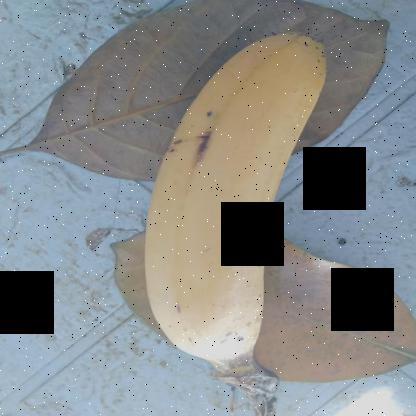freshripe: (85, 12, 358, 371)
